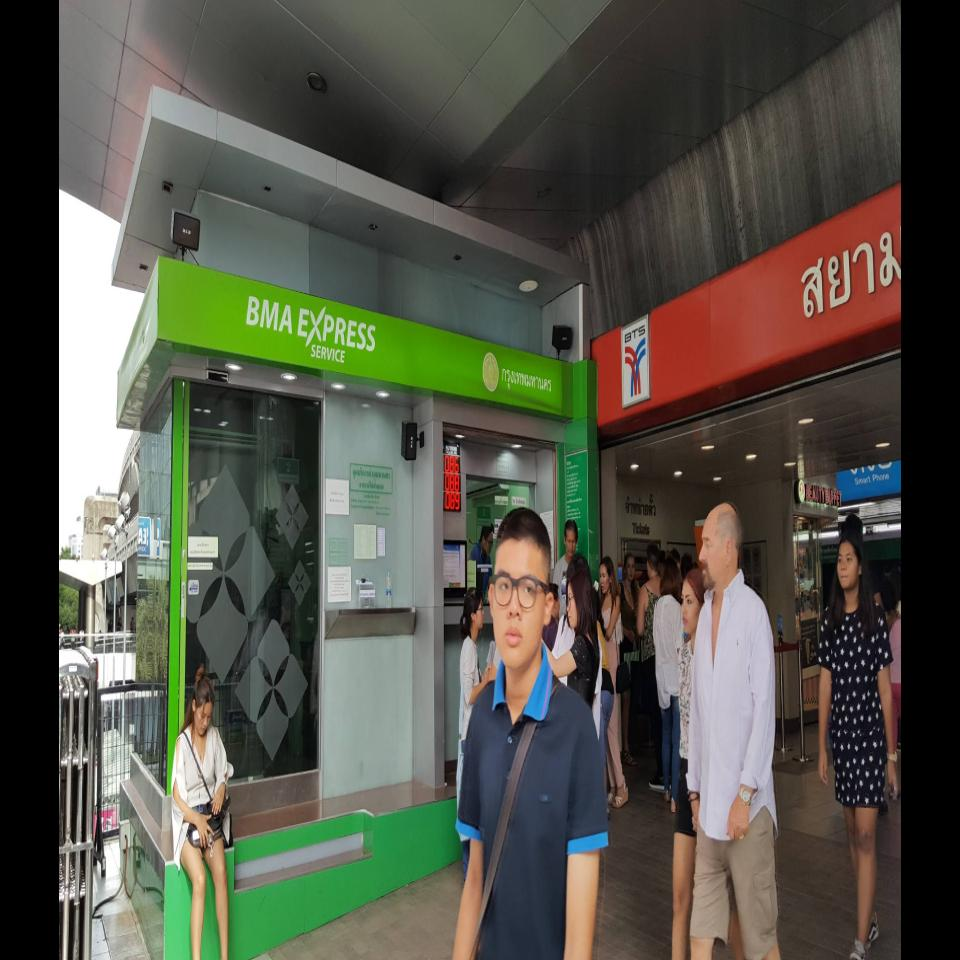signage: (800, 226, 902, 320)
